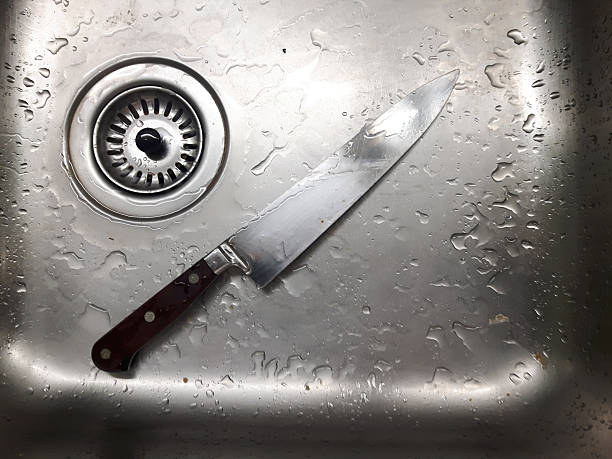knife: (90, 68, 465, 376)
